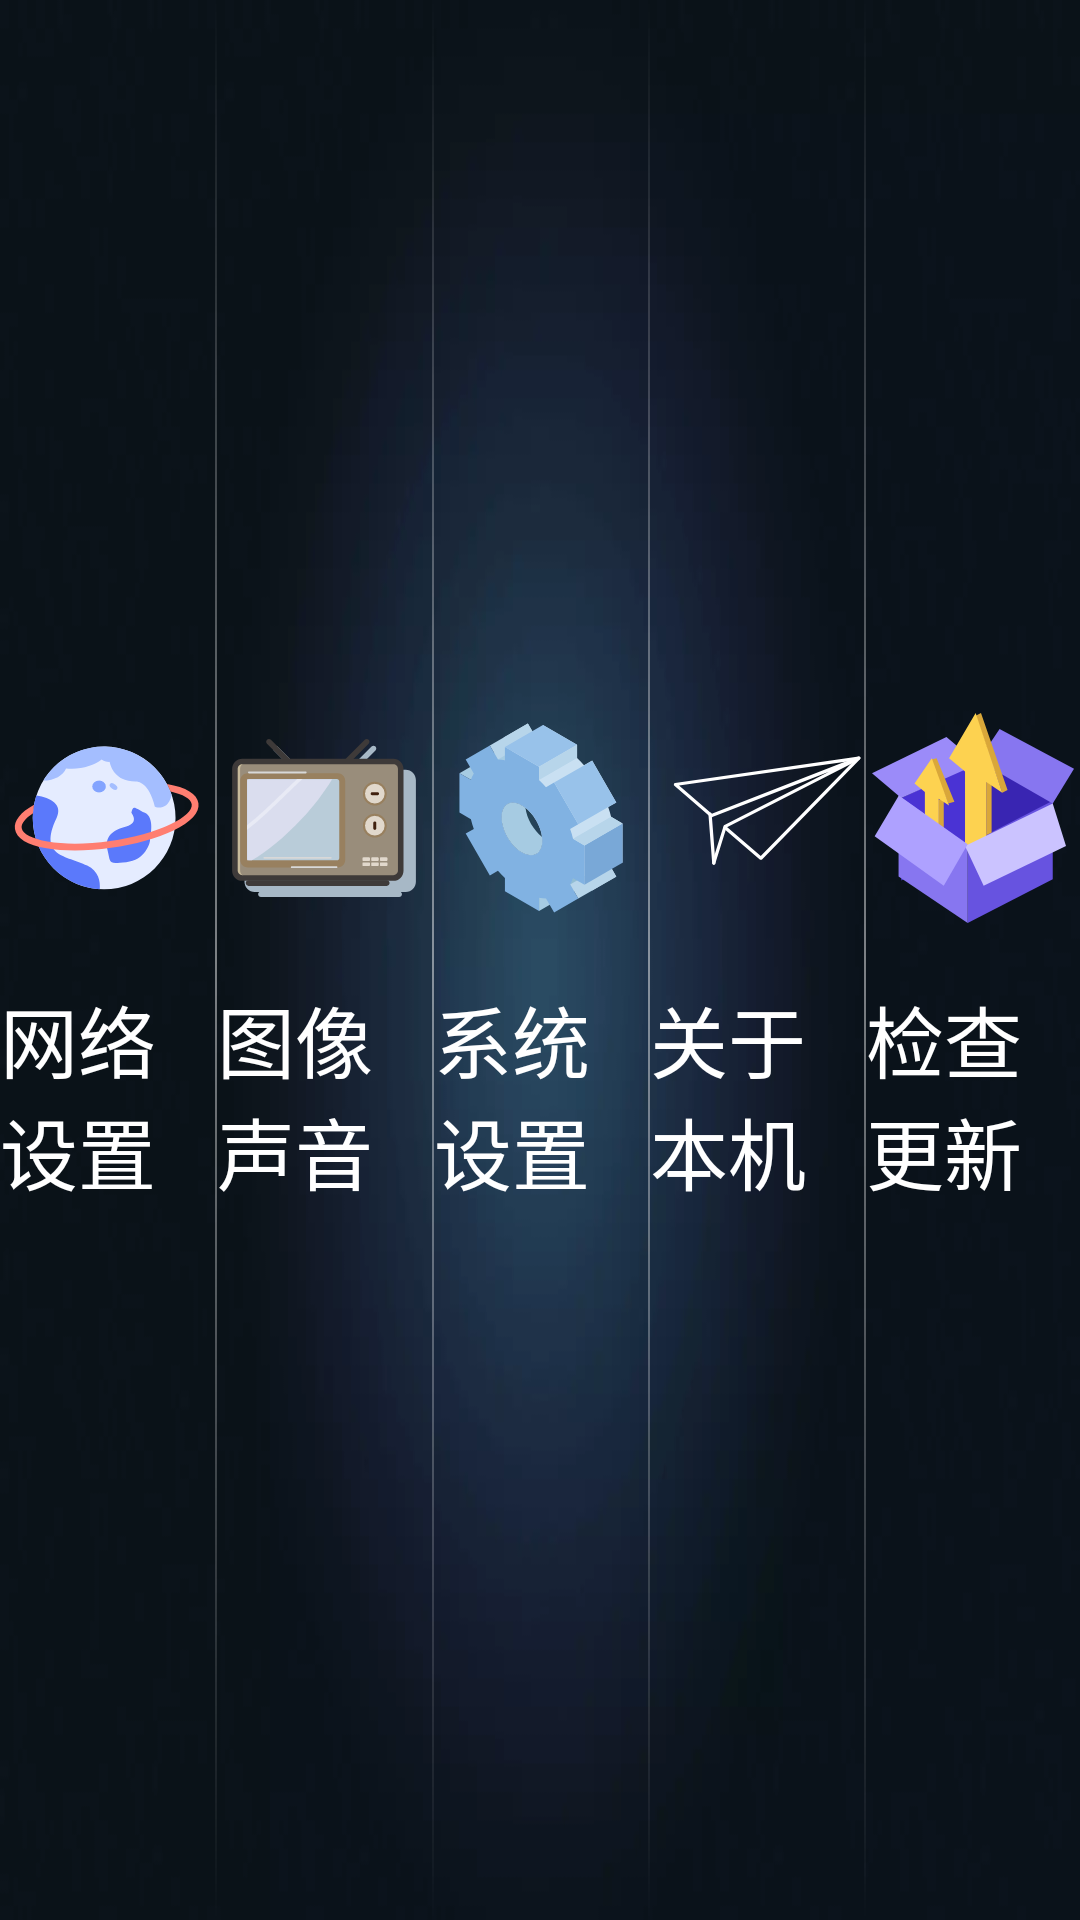

Icons on this 1080 x 1920 Android screen, each with the point to tap as [x,y]:
gengxin: [973,818]
shezhi: [541,818]
shipinzhongxin: [324,818]
wangluo: [106,818]
